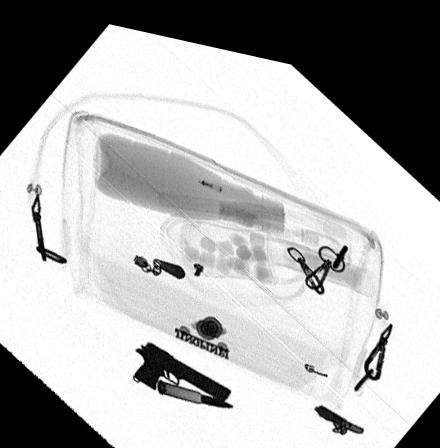Bullet: (155, 373, 235, 398)
Gun: (132, 333, 230, 393)
